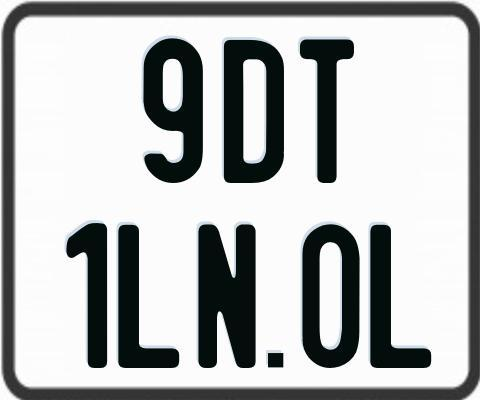0: (300, 224, 358, 372)
1: (63, 221, 109, 366)
9: (141, 35, 207, 181)
D: (223, 39, 283, 185)
L: (117, 224, 183, 371), (370, 225, 432, 373)
N: (195, 224, 254, 369)
T: (297, 39, 352, 187)
